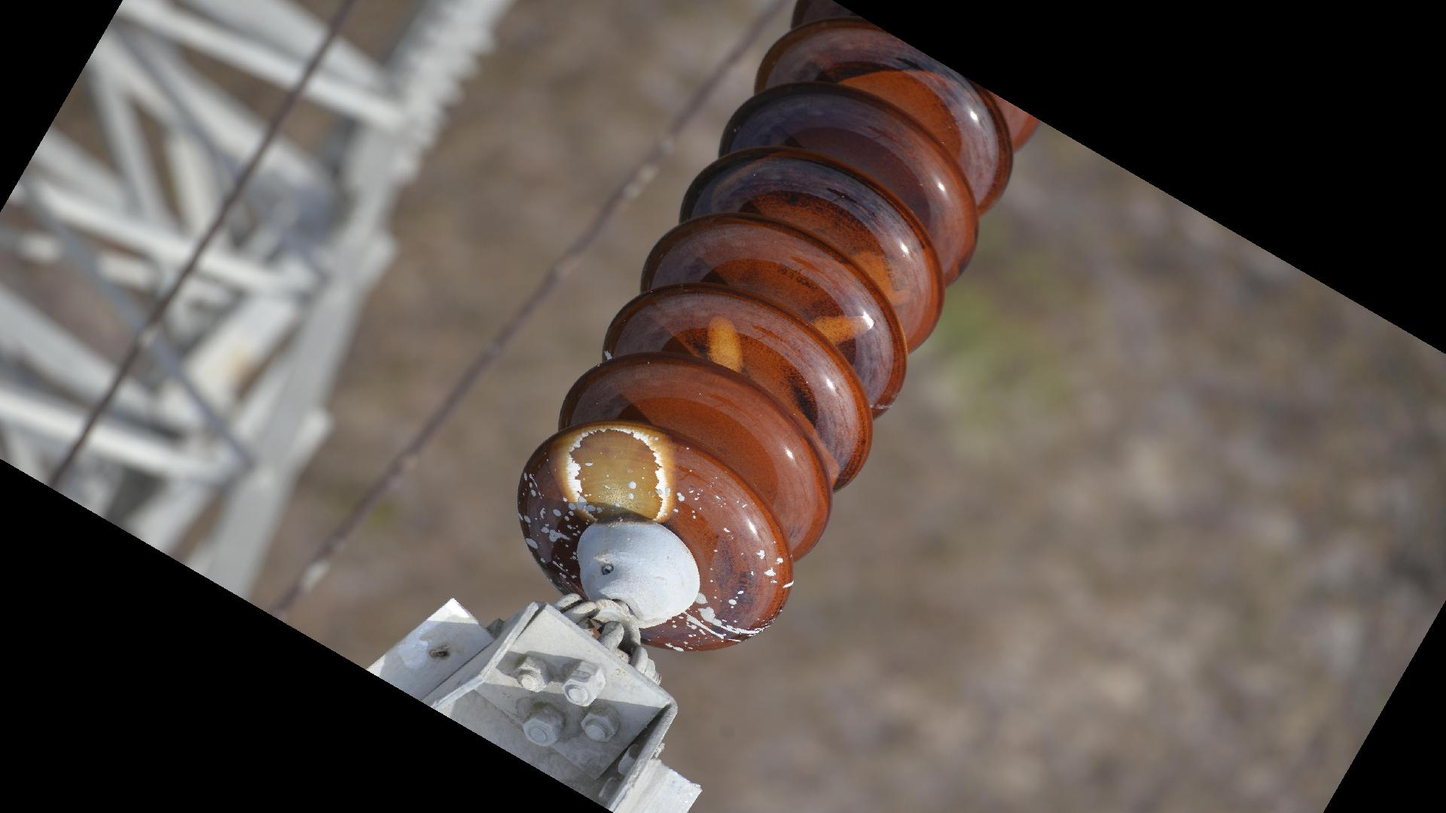insulator: (510, 1, 1046, 661)
insulator_flashover: (564, 422, 676, 527), (849, 245, 922, 311), (700, 310, 748, 379), (806, 307, 881, 350)
